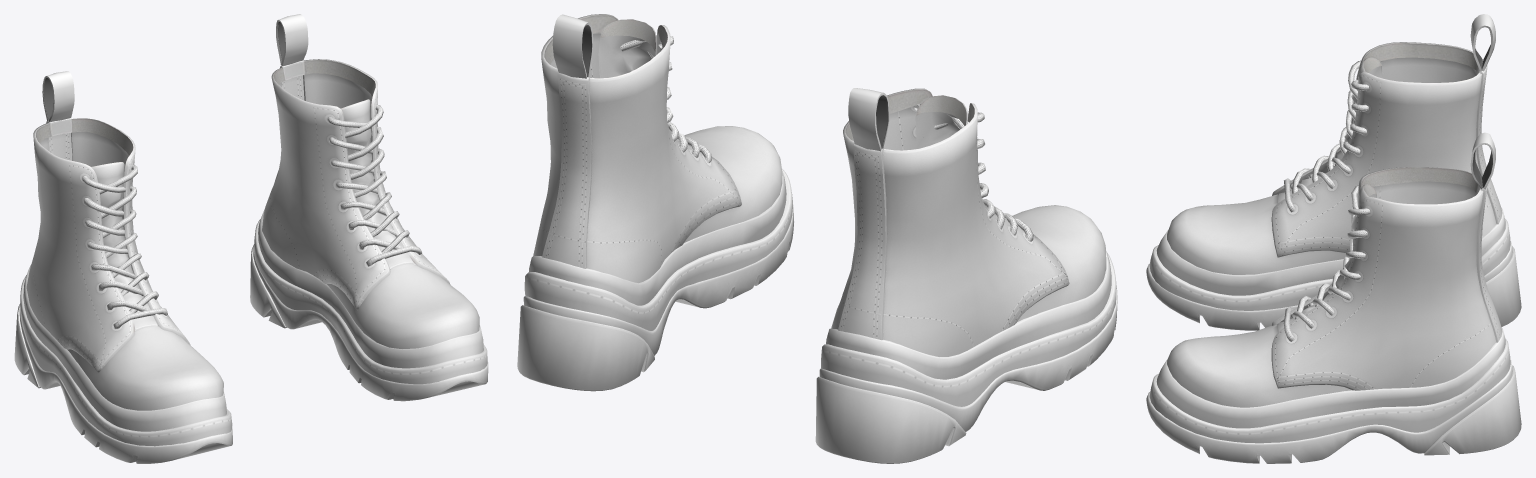
File: NFT_BOOTS_OP3.glb
3 views of the same model, side by side, from view 1: azimuth 30°, elevation 25°; view 2: azimuth 150°, elevation 25°; view 3: azimuth 270°, elevation 25° (orthographic). The views are drawn at different scales.
Parts seen in each view (by area): view 1: OP3_BASE_01, OP3_BASE_02, OP3_OUTSOLE_01, OP3_OUTSOLE_02, OP3_BASE_03, OP3_OUTSOLE_03, OP3_BASE_05, OP3_OUTSOLE_04, OP3_BASE_04; view 2: OP3_BASE_01, OP3_OUTSOLE_04, OP3_BASE_02, OP3_OUTSOLE_02, OP3_BASE_04, OP3_OUTSOLE_01, OP3_OUTSOLE_03, OP3_BASE_05, OP3_BASE_03; view 3: OP3_BASE_01, OP3_BASE_02, OP3_OUTSOLE_01, OP3_OUTSOLE_02, OP3_OUTSOLE_03, OP3_OUTSOLE_04, OP3_BASE_03, OP3_BASE_04, OP3_BASE_05.
Part boxes in pixels (x1=…): OP3_BASE_01: x1=26, y1=59, x2=450, y2=372; OP3_BASE_02: x1=67, y1=99, x2=479, y2=410; OP3_OUTSOLE_01: x1=23, y1=209, x2=483, y2=431; OP3_OUTSOLE_02: x1=20, y1=219, x2=487, y2=446; OP3_BASE_03: x1=82, y1=104, x2=421, y2=328; OP3_OUTSOLE_03: x1=19, y1=244, x2=488, y2=463; OP3_BASE_05: x1=42, y1=14, x2=308, y2=122; OP3_OUTSOLE_04: x1=14, y1=245, x2=286, y2=388; OP3_BASE_04: x1=46, y1=60, x2=305, y2=183; OP3_BASE_01: x1=533, y1=14, x2=1069, y2=356; OP3_OUTSOLE_04: x1=517, y1=305, x2=966, y2=463; OP3_BASE_02: x1=598, y1=19, x2=1106, y2=321; OP3_OUTSOLE_02: x1=524, y1=169, x2=1116, y2=406; OP3_BASE_04: x1=542, y1=72, x2=886, y2=340; OP3_OUTSOLE_01: x1=529, y1=170, x2=1111, y2=379; OP3_OUTSOLE_03: x1=523, y1=205, x2=1117, y2=431; OP3_BASE_05: x1=552, y1=14, x2=889, y2=151; OP3_BASE_03: x1=620, y1=36, x2=1033, y2=241; OP3_BASE_01: x1=1271, y1=42, x2=1496, y2=390; OP3_BASE_02: x1=1167, y1=57, x2=1382, y2=407; OP3_OUTSOLE_01: x1=1156, y1=208, x2=1505, y2=428; OP3_OUTSOLE_02: x1=1149, y1=219, x2=1510, y2=443; OP3_OUTSOLE_03: x1=1146, y1=241, x2=1512, y2=463; OP3_OUTSOLE_04: x1=1424, y1=246, x2=1521, y2=455; OP3_BASE_03: x1=1283, y1=60, x2=1370, y2=341; OP3_BASE_04: x1=1476, y1=59, x2=1502, y2=342; OP3_BASE_05: x1=1470, y1=14, x2=1495, y2=189.
Bounding box in the file's own units: 44.96 × 32.71 × 37.88.
Materials: 1 (1 with a texture image).
